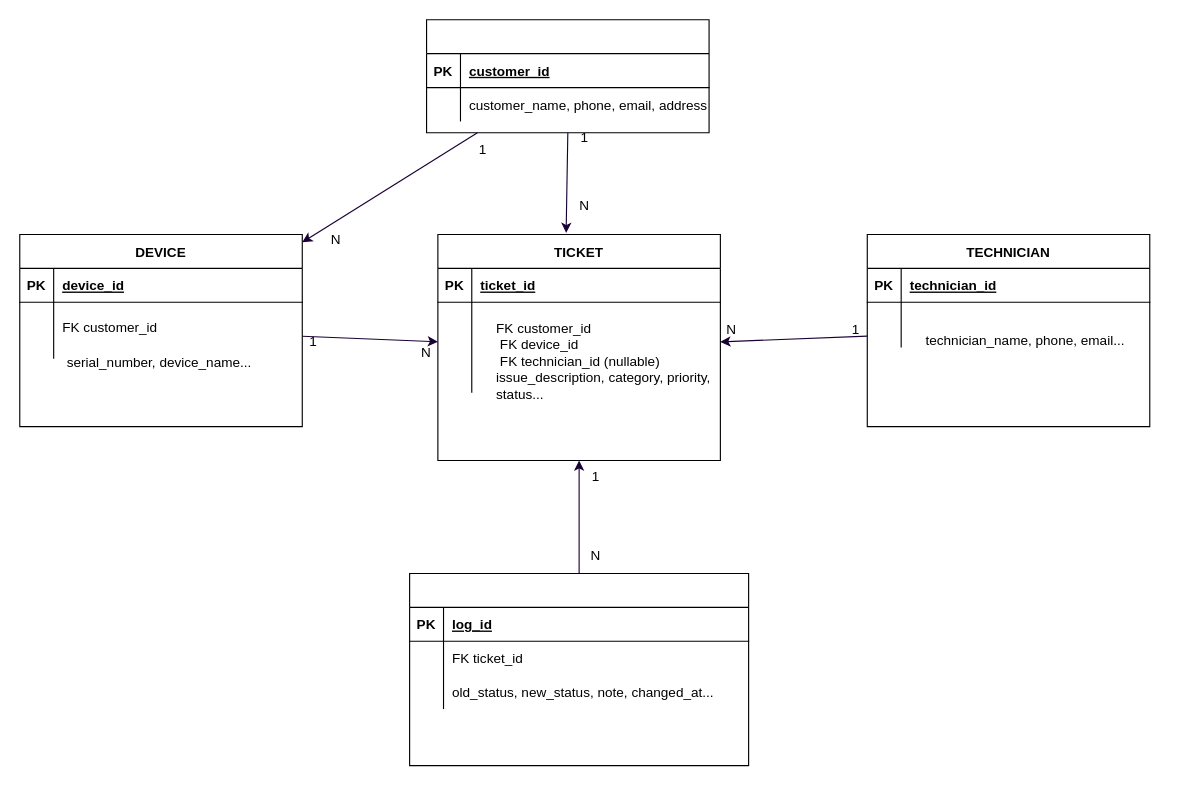
The diagram is 1181 pixels wide and 785 high, and some of its shapes have lost their labels. Each missing label, with the box of its shape:
Customers: (425, 19, 709, 133)
TICKET_STATUS_LOG: (408, 572, 749, 766)
